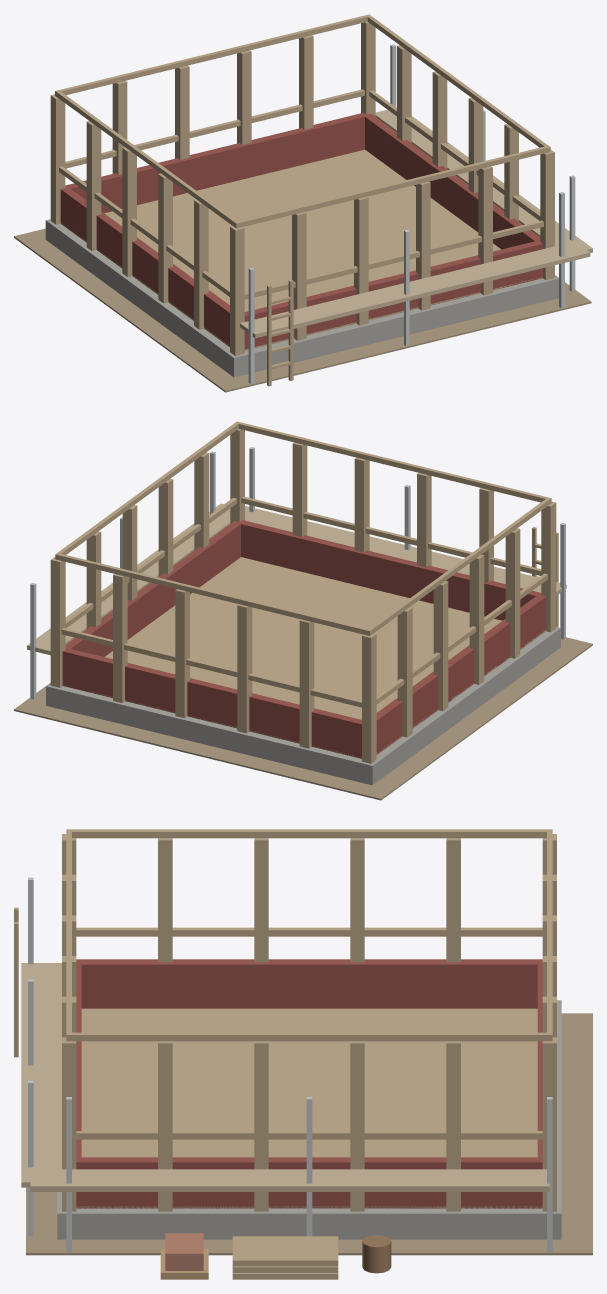
Rendered from barn_site_5.glb.
3 renders of one model, top to bottom at view 1: azimuth 30°, elevation 25°; view 2: azimuth 150°, elevation 25°; view 3: azimuth 270°, elevation 25°, orthographic. The views are drawn at different scales.
Visible parts, largest first — view 1: body; view 2: body; view 3: body.
Part boxes in pixels (box(x1,y1,x2,y2)): body: box(14, 14, 592, 392); body: box(14, 421, 592, 800); body: box(14, 829, 592, 1279).
Size of the model in its own units: 2.6 by 0.933 by 2.41.
